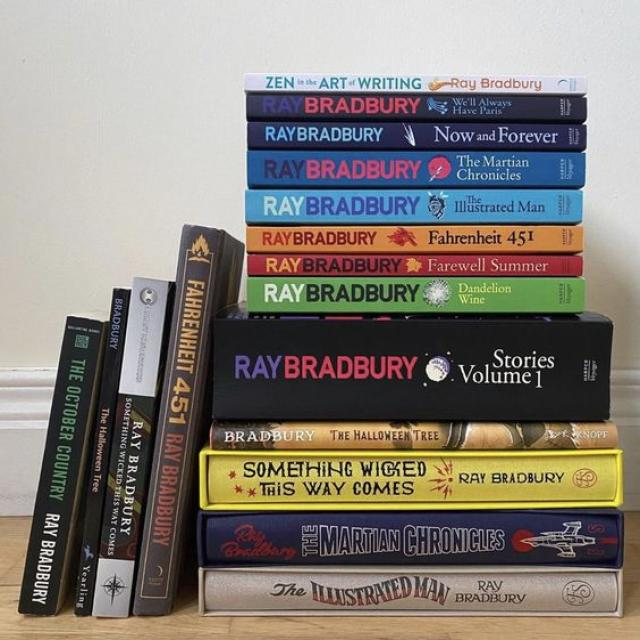book: (215, 319, 610, 422), (132, 224, 217, 615), (92, 275, 168, 616), (18, 316, 104, 615), (205, 516, 615, 564), (206, 455, 618, 502), (76, 288, 127, 612), (205, 573, 617, 612), (248, 151, 584, 188), (247, 278, 584, 312), (246, 190, 582, 223), (212, 424, 616, 448), (247, 227, 582, 253), (246, 95, 585, 120), (248, 124, 586, 148), (248, 254, 583, 276), (244, 74, 587, 92)
